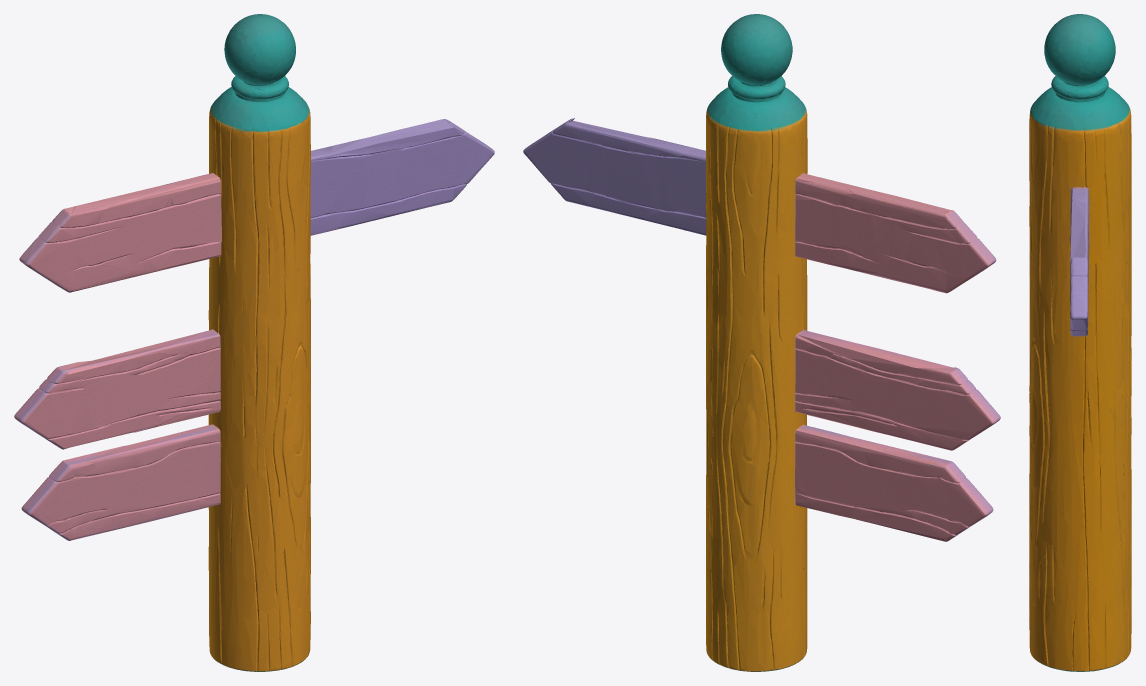
Rendered from crossroads-signpost-v1.glb.
3 views of the same model, side by side, from view 1: azimuth 30°, elevation 25°; view 2: azimuth 150°, elevation 25°; view 3: azimuth 270°, elevation 25° (orthographic).
Bounding box in the file's own units: 1.48 × 1.9 × 0.2785.
Materials: 1 (1 with a texture image).
